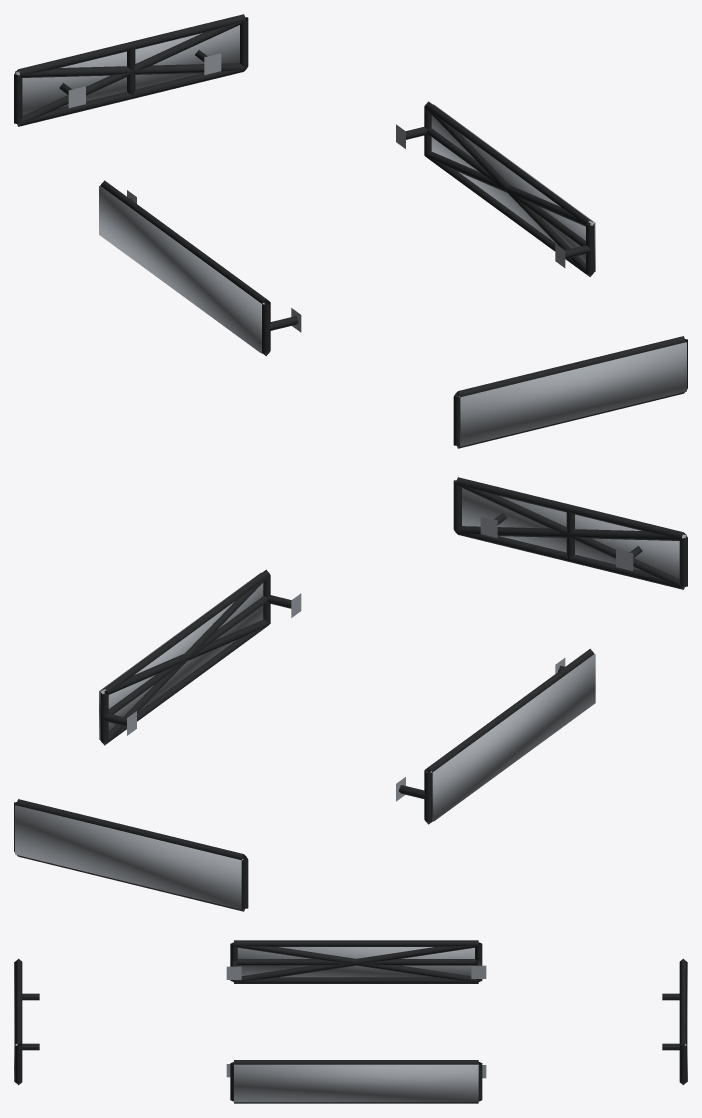
The model's file is halberton_casarao_protecao.glb.
3 renders of one model, top to bottom at view 1: azimuth 30°, elevation 25°; view 2: azimuth 150°, elevation 25°; view 3: azimuth 270°, elevation 25°, orthographic. The views are drawn at different scales.
Visible parts, largest first — view 1: Protection_front_Level3_Details, Protection_left_Level3_Details, Protection_rear_Level1_Details, Protection_rear_Level3_Details, Protection_right_Level1_Details, Protection_right_Level2_Details, Protection_rear_Level2_Details, Protection_right_Level3_Details, Protection_front_Level1_Details, Protection_left_Level1_Details; view 2: Protection_rear_Level3_Details, Protection_left_Level3_Details, Protection_front_Level1_Details, Protection_front_Level3_Details, Protection_right_Level1_Details, Protection_right_Level2_Details, Protection_front_Level2_Details, Protection_right_Level3_Details, Protection_rear_Level1_Details, Protection_left_Level1_Details; view 3: Protection_right_Level3_Details, Protection_left_Level2_Details, Protection_left_Level1_Details, Protection_left_Level3_Details, Protection_right_Level1_Details, Protection_rear_Level1_Details, Protection_front_Level1_Details.
Boxes of the visible parts, x1,y1,x2,y2 form: Protection_front_Level3_Details: (458,342,686,446); Protection_left_Level3_Details: (99,186,264,353); Protection_rear_Level1_Details: (14,14,248,126); Protection_rear_Level3_Details: (15,25,239,115); Protection_right_Level1_Details: (396,101,594,277); Protection_right_Level2_Details: (424,107,593,276); Protection_rear_Level2_Details: (16,20,245,125); Protection_right_Level3_Details: (431,104,595,271); Protection_front_Level1_Details: (453,336,687,448); Protection_left_Level1_Details: (100,180,301,356); Protection_rear_Level3_Details: (15,805,243,909); Protection_left_Level3_Details: (430,654,595,821); Protection_front_Level1_Details: (453,477,687,589); Protection_front_Level3_Details: (462,488,686,578); Protection_right_Level1_Details: (100,569,301,745); Protection_right_Level2_Details: (101,575,270,744); Protection_front_Level2_Details: (456,483,685,588); Protection_right_Level3_Details: (99,572,263,739); Protection_rear_Level1_Details: (14,799,248,911); Protection_left_Level1_Details: (396,648,594,824); Protection_right_Level3_Details: (234,1064,478,1102); Protection_left_Level2_Details: (233,943,478,982); Protection_left_Level1_Details: (226,940,486,983); Protection_left_Level3_Details: (237,947,474,977); Protection_right_Level1_Details: (226,1060,486,1103); Protection_rear_Level1_Details: (662,958,686,1085); Protection_front_Level1_Details: (15,958,39,1085).
Size of the model in its own units: 2.15 by 0.354 by 4.96.
1 material, 1 textured.
